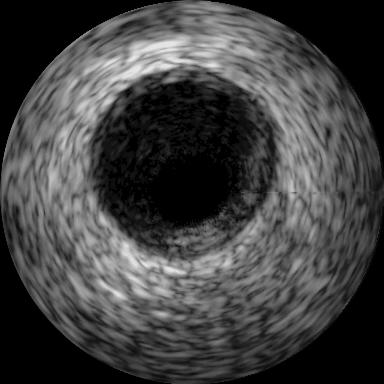Lumen: (141, 145, 235, 225)
